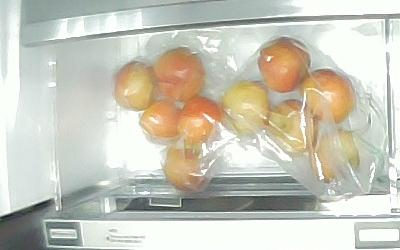prune_vinyl: (300, 69, 358, 125), (257, 37, 311, 91), (308, 127, 360, 183), (155, 46, 206, 101), (163, 137, 212, 194), (220, 81, 272, 134), (266, 99, 316, 154), (176, 96, 225, 143), (113, 60, 156, 111), (139, 101, 182, 144)
